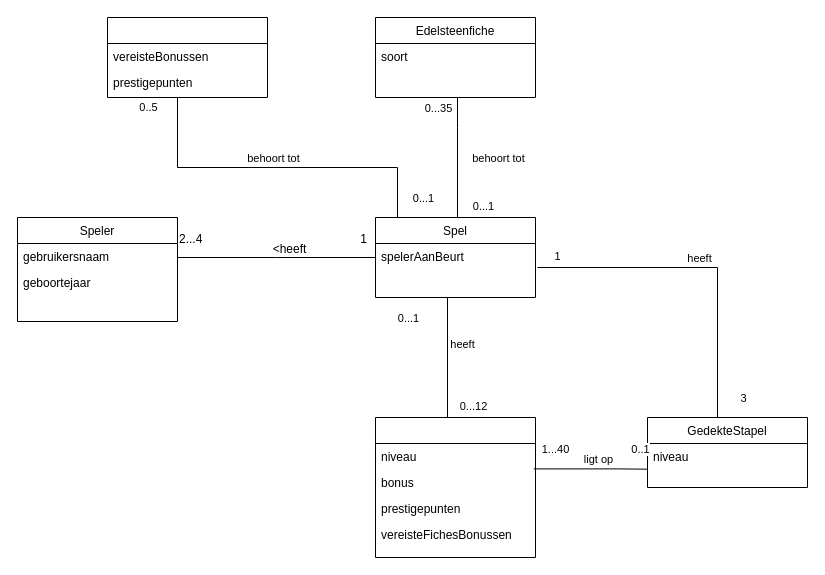
Image size: 825x575. Some labels were removed from this diagram. Each missing label, with the box of its shape:
Edel: (106, 16, 268, 98)
Ontwikkelingskaart: (374, 416, 536, 558)
